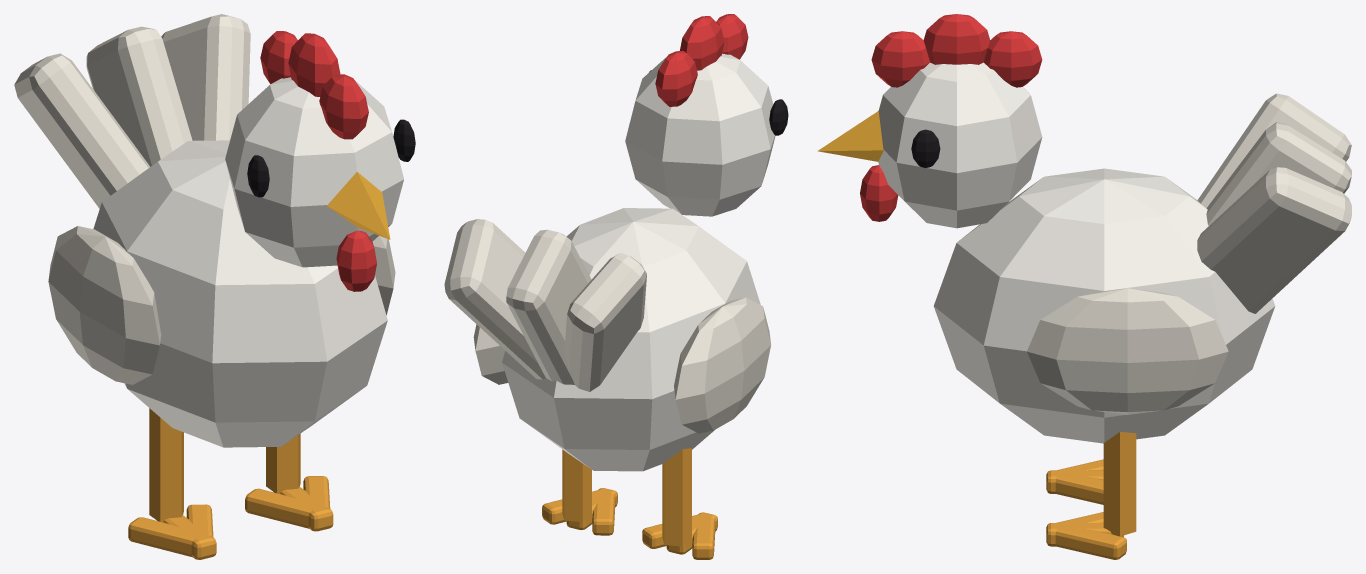
File: chicken_white.glb
The picture shows the model from 3 angles, left to right: view 1: azimuth 30°, elevation 25°; view 2: azimuth 150°, elevation 25°; view 3: azimuth 270°, elevation 25°; orthographic projection. The views are drawn at different scales.
Visible parts, largest first — view 1: body_mesh, head_mesh, wing_r_mesh, leg_r_mesh, leg_l_mesh, wing_l_mesh; view 2: body_mesh, head_mesh, wing_r_mesh, leg_r_mesh, leg_l_mesh, wing_l_mesh; view 3: body_mesh, head_mesh, wing_l_mesh, leg_l_mesh, leg_r_mesh.
Boxes of the visible parts, x1,y1,x2,y2 form: body_mesh: [14, 14, 387, 447]; head_mesh: [225, 31, 415, 291]; wing_r_mesh: [48, 226, 161, 384]; leg_r_mesh: [128, 408, 216, 559]; leg_l_mesh: [245, 433, 333, 531]; wing_l_mesh: [372, 235, 395, 315]; body_mesh: [444, 208, 760, 471]; head_mesh: [625, 14, 788, 216]; wing_r_mesh: [674, 297, 770, 433]; leg_r_mesh: [642, 448, 717, 559]; leg_l_mesh: [542, 449, 617, 535]; wing_l_mesh: [473, 324, 508, 384]; body_mesh: [933, 93, 1351, 443]; head_mesh: [817, 14, 1042, 228]; wing_l_mesh: [1027, 288, 1228, 414]; leg_l_mesh: [1046, 432, 1136, 559]; leg_r_mesh: [1046, 459, 1103, 504].
Size of the model in its own units: 0.39 by 0.715 by 0.6885.
